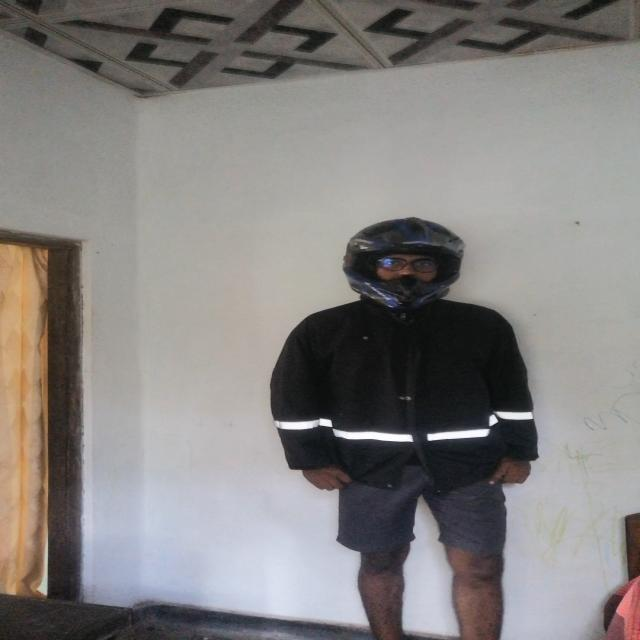Helmet_Wearer: (310, 230, 480, 310)
Jacket_Wearer: (282, 286, 563, 464)
